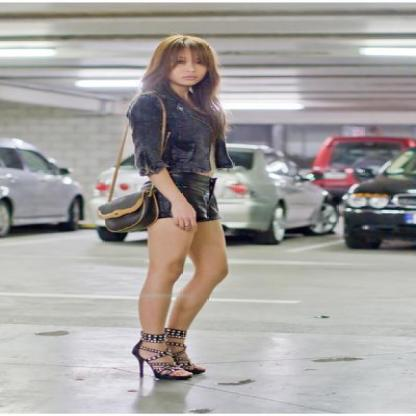bag: (99, 165, 172, 231)
jacket: (120, 96, 236, 176)
shoe: (132, 328, 204, 382)
shorts: (168, 168, 218, 222)
